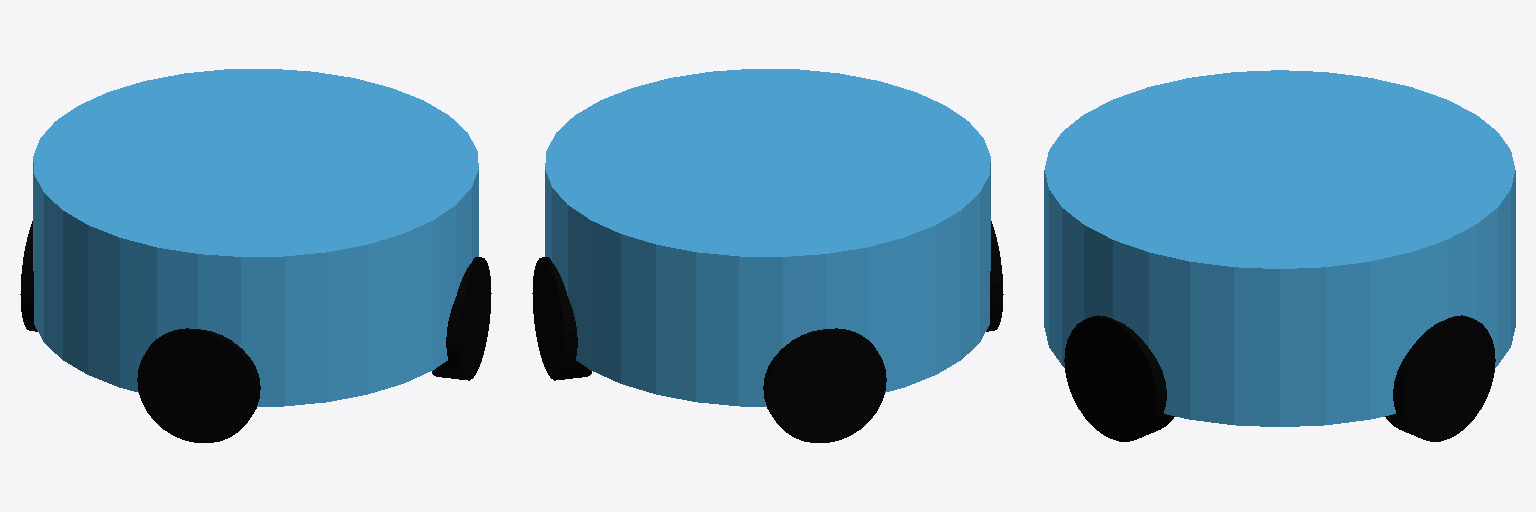
URDF robot description (srm_sentry):
<?xml version="1.0"?>
<robot name="srm_sentry">
  <link name="base_footprint" />
  <link name="base_link">
    <visual>
      <origin xyz="0 0 0.15" />
      <geometry><cylinder radius="0.27" length="0.2" /></geometry>
    </visual>
    <collision>
      <origin xyz="0 0 0.15" />
      <geometry><cylinder radius="0.27" length="0.2" /></geometry>
    </collision>
    <inertial>
      <origin xyz="0 0 0.15" />
      <mass value="8.2" />
      <inertia ixx="0.17677833333333334" ixy="0" ixz="0" iyy="0.17677833333333334" iyz="0" izz="0.29889" />
    </inertial>
  </link>
  <joint name="base_footprint_joint" type="fixed">
    <parent link="base_footprint" /><child link="base_link" />
  </joint>
  <link name="gimbal_yaw" />
  <joint name="gimbal_yaw_joint" type="fixed">
    <origin xyz="0 0 0.1376" />
    <parent link="base_link" /><child link="gimbal_yaw" />
  </joint>
  <link name="gimbal_pitch" />
  <joint name="gimbal_pitch_joint" type="fixed">
    <origin xyz="0 0 0.16" />
    <parent link="gimbal_yaw" /><child link="gimbal_pitch" />
  </joint>
  <link name="front_mid360" />
  <joint name="front_mid360_joint" type="fixed">
    <origin xyz="0.15 -0.15 0.22" rpy="-0.06981317007977318 0 -1.5707963267948966" />
    <parent link="base_link" /><child link="front_mid360" />
  </joint>
  <link name="livox_imu" />
  <joint name="livox_imu_joint" type="fixed">
    <parent link="front_mid360" /><child link="livox_imu" />
  </joint>
  <link name="livox_scan" />
  <joint name="livox_scan_joint" type="fixed">
    <origin xyz="0.15 -0.15 0.22" />
    <parent link="base_link" /><child link="livox_scan" />
  </joint>
  <link name="front_left_wheel">
    <visual>
      <geometry><cylinder radius="0.075" length="0.04" /></geometry>
      <material name="wheel_black"><color rgba="0.05 0.05 0.05 1" /></material>
    </visual>
    <collision><geometry><cylinder radius="0.075" length="0.04" /></geometry></collision>
  </link>
  <joint name="front_left_wheel_joint" type="fixed">
    <origin xyz="0.18 0.18 0.075" rpy="-1.5707963267948966 0 -0.7853981633974483" />
    <parent link="base_link" /><child link="front_left_wheel" />
  </joint>
  <link name="rear_left_wheel">
    <visual>
      <geometry><cylinder radius="0.075" length="0.04" /></geometry>
      <material name="wheel_black"><color rgba="0.05 0.05 0.05 1" /></material>
    </visual>
    <collision><geometry><cylinder radius="0.075" length="0.04" /></geometry></collision>
  </link>
  <joint name="rear_left_wheel_joint" type="fixed">
    <origin xyz="-0.18 0.18 0.075" rpy="-1.5707963267948966 0 0.7853981633974483" />
    <parent link="base_link" /><child link="rear_left_wheel" />
  </joint>
  <link name="front_right_wheel">
    <visual>
      <geometry><cylinder radius="0.075" length="0.04" /></geometry>
      <material name="wheel_black"><color rgba="0.05 0.05 0.05 1" /></material>
    </visual>
    <collision><geometry><cylinder radius="0.075" length="0.04" /></geometry></collision>
  </link>
  <joint name="front_right_wheel_joint" type="fixed">
    <origin xyz="0.18 -0.18 0.075" rpy="-1.5707963267948966 0 -2.356194490192345" />
    <parent link="base_link" /><child link="front_right_wheel" />
  </joint>
  <link name="rear_right_wheel">
    <visual>
      <geometry><cylinder radius="0.075" length="0.04" /></geometry>
      <material name="wheel_black"><color rgba="0.05 0.05 0.05 1" /></material>
    </visual>
    <collision><geometry><cylinder radius="0.075" length="0.04" /></geometry></collision>
  </link>
  <joint name="rear_right_wheel_joint" type="fixed">
    <origin xyz="-0.18 -0.18 0.075" rpy="-1.5707963267948966 0 2.356194490192345" />
    <parent link="base_link" /><child link="rear_right_wheel" />
  </joint>
</robot>

--- What the picture shows (computed from the rendered views, not written in the file) ---
3 views of the same robot in one strip: view 1: azimuth 30°, elevation 25°; view 2: azimuth 150°, elevation 25°; view 3: azimuth 270°, elevation 25° (orthographic).
Robot: srm_sentry — 11 links, 10 joints (10 fixed); root link base_footprint; default pose: every joint at zero.
Links seen in each view (by area): view 1: base_link, rear_right_wheel, front_right_wheel, rear_left_wheel; view 2: base_link, rear_left_wheel, front_left_wheel, rear_right_wheel; view 3: base_link, front_left_wheel, front_right_wheel.
Link boxes in pixels (bbox=[...]): base_link: bbox=[33, 69, 478, 406]; rear_right_wheel: bbox=[137, 328, 260, 442]; front_right_wheel: bbox=[432, 257, 491, 380]; rear_left_wheel: bbox=[20, 221, 37, 331]; base_link: bbox=[545, 69, 990, 406]; rear_left_wheel: bbox=[763, 328, 886, 442]; front_left_wheel: bbox=[532, 257, 591, 380]; rear_right_wheel: bbox=[986, 221, 1003, 331]; base_link: bbox=[1044, 70, 1515, 426]; front_left_wheel: bbox=[1385, 315, 1495, 441]; front_right_wheel: bbox=[1064, 315, 1174, 441].
Bounding box of the posed robot: 0.54 × 0.54 × 0.25 m (x, y, z).
Geometry: primitives only (box / cylinder / sphere), no mesh files.
